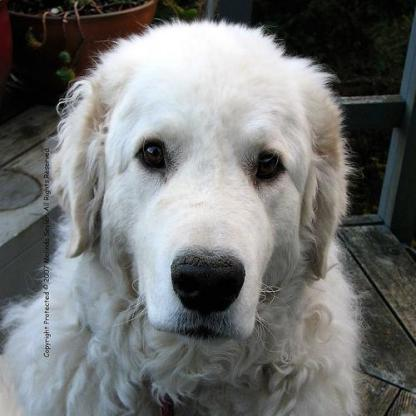kuvasz: (0, 18, 364, 413)
